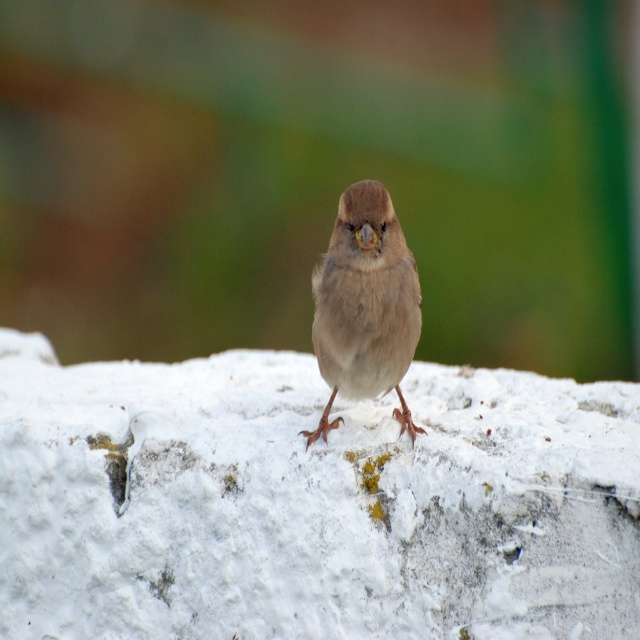Sparrow: (297, 182, 425, 449)
